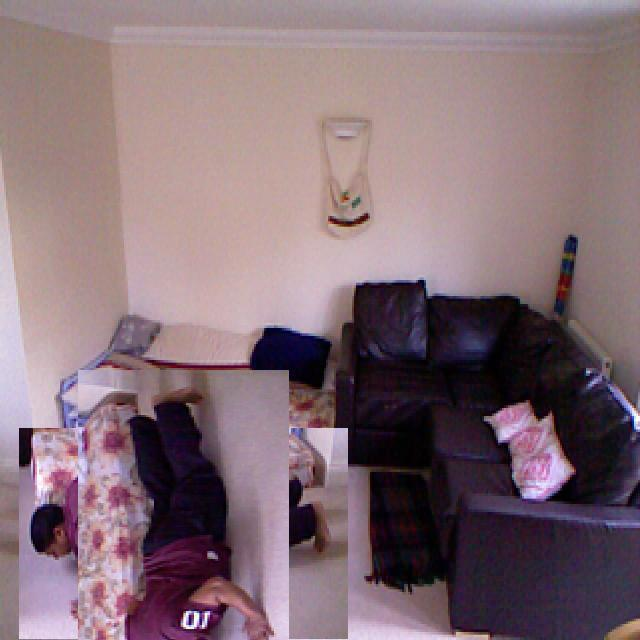Fall: (92, 376, 288, 640)
